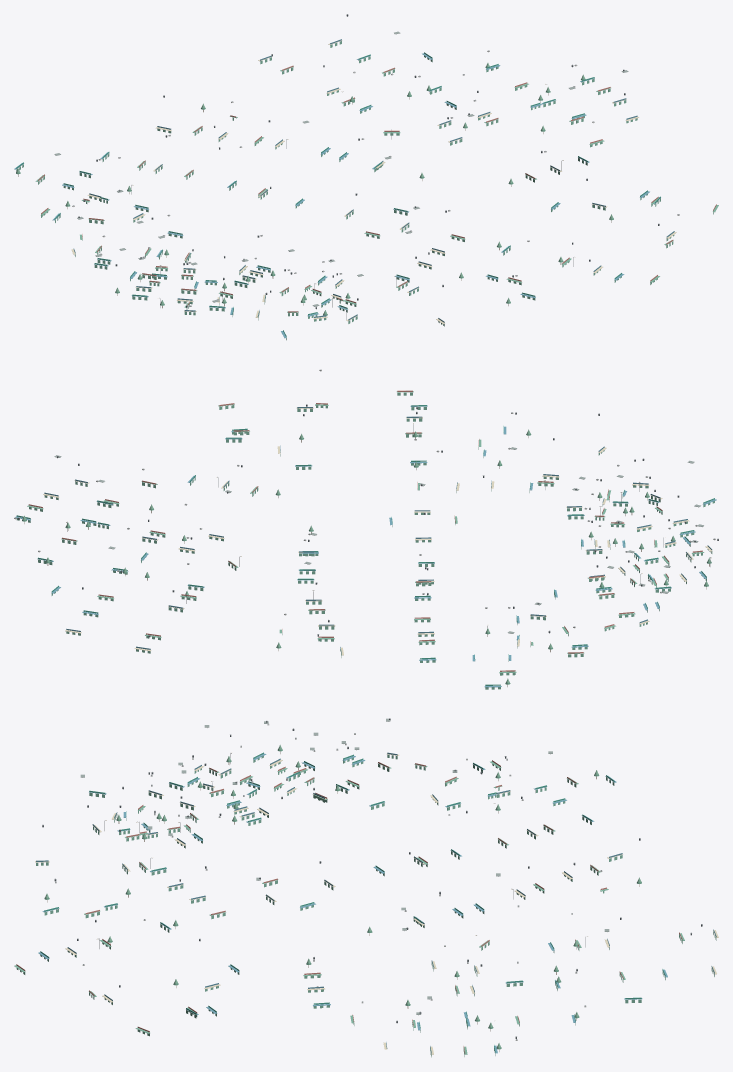
The picture shows the model from 3 angles, top to bottom: view 1: azimuth 30°, elevation 25°; view 2: azimuth 150°, elevation 25°; view 3: azimuth 270°, elevation 25°; orthographic projection. The views are drawn at different scales.
Visible parts, largest first — view 1: Station neighborhood architectural details; view 2: Station neighborhood architectural details; view 3: Station neighborhood architectural details.
Boxes of the visible parts, box(x1,y1,x2,y2) form: Station neighborhood architectural details: box(14, 14, 718, 340); Station neighborhood architectural details: box(14, 369, 718, 689); Station neighborhood architectural details: box(14, 718, 718, 1057).
Size of the model in its own units: 439 by 33.9 by 428.
